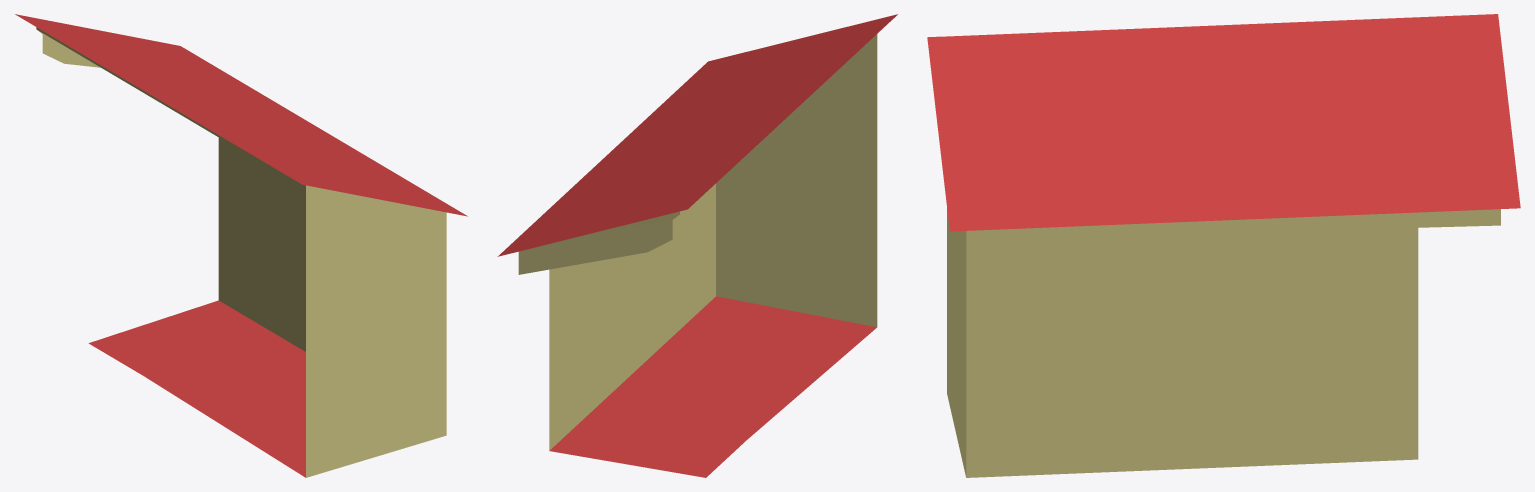
3 renders of one model, left to right at view 1: azimuth 30°, elevation 25°; view 2: azimuth 150°, elevation 25°; view 3: azimuth 270°, elevation 25°, orthographic. The views are drawn at different scales.
Bounding box in the file's own units: 7.99 × 16.34 × 10.63.
